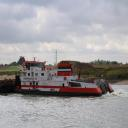tugboat: (15, 57, 116, 100)
